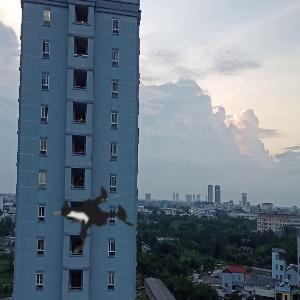drone: (21, 135, 171, 285)
